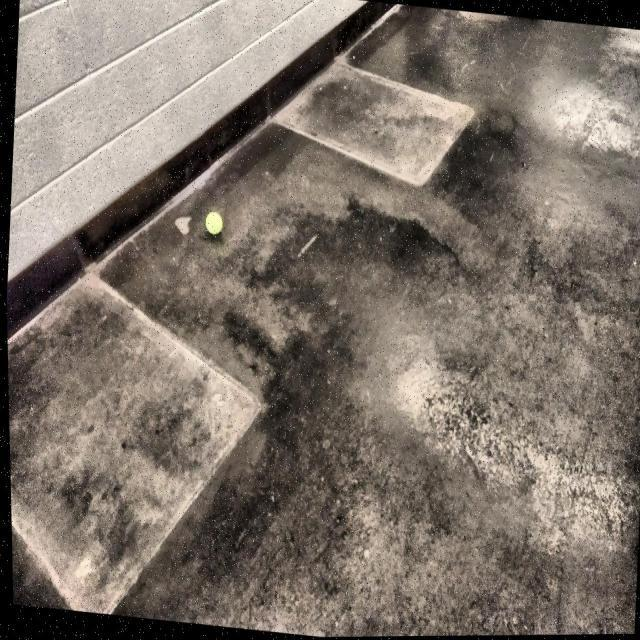tennis-ball: (200, 206, 224, 240)
